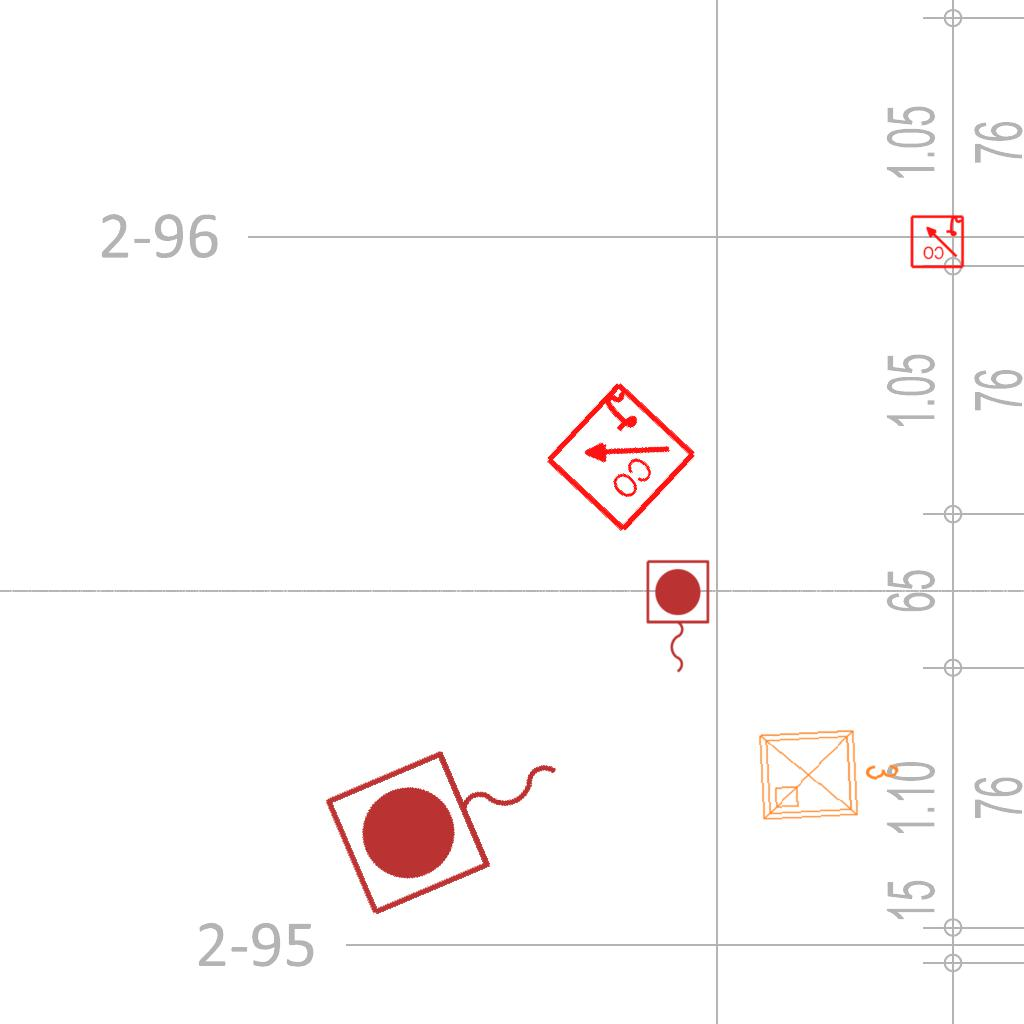Einbaudownlights_LED_Konferenzraeume: (751, 716, 907, 828)
ROA_Rauchmelder_optisch_mit_Signalgeber_(Sockelsirene): (539, 376, 700, 537), (909, 213, 965, 269)
Zugtaster: (314, 701, 596, 929), (641, 556, 713, 678)
